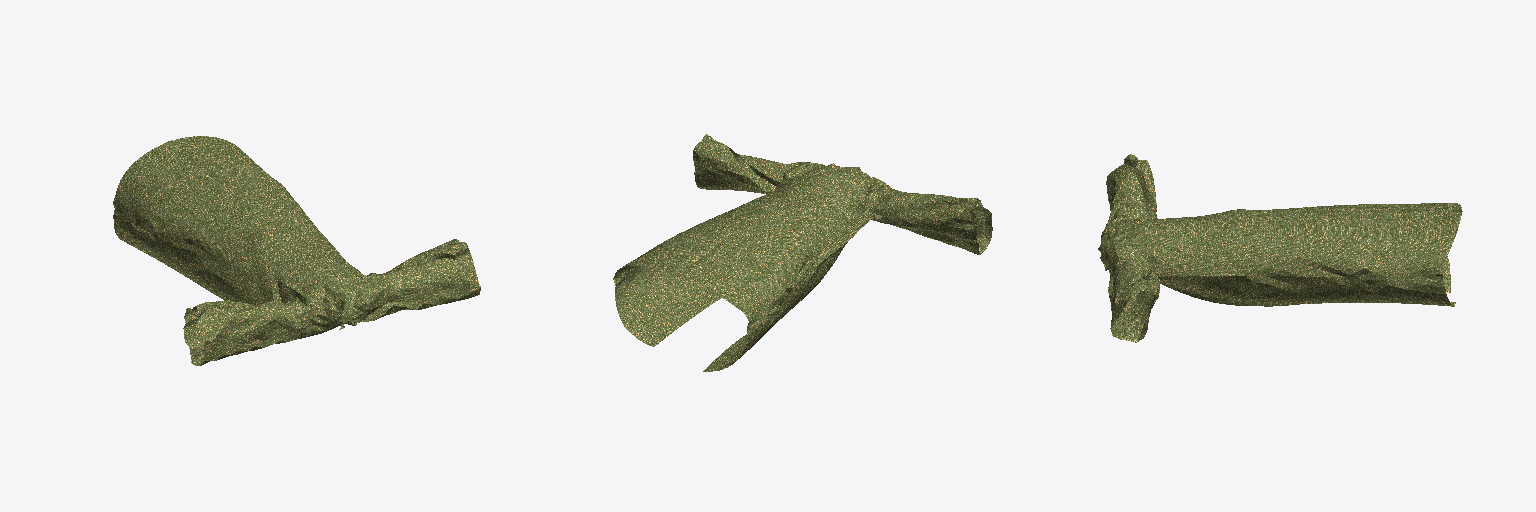
3 renders of one model, left to right at view 1: azimuth 30°, elevation 25°; view 2: azimuth 150°, elevation 25°; view 3: azimuth 270°, elevation 25°, orthographic.
Bounding box in the file's own units: 1.36 × 0.4407 × 1.53.
Materials: 1 (1 with a texture image).